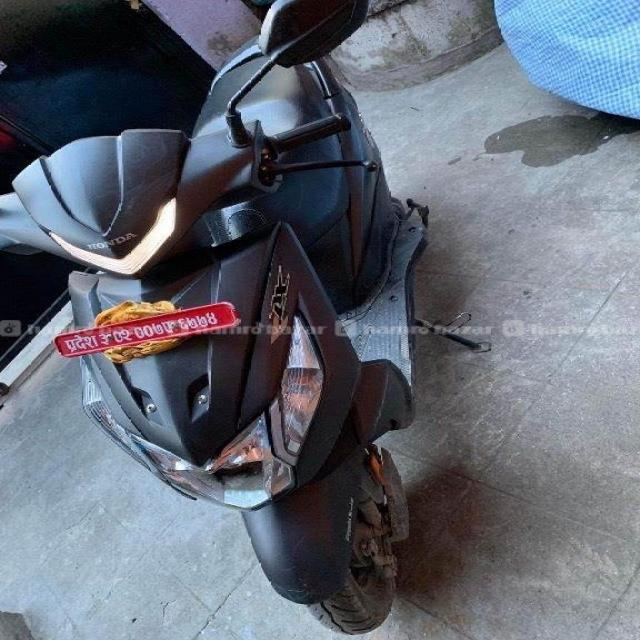License-plate: (24, 302, 278, 360)
